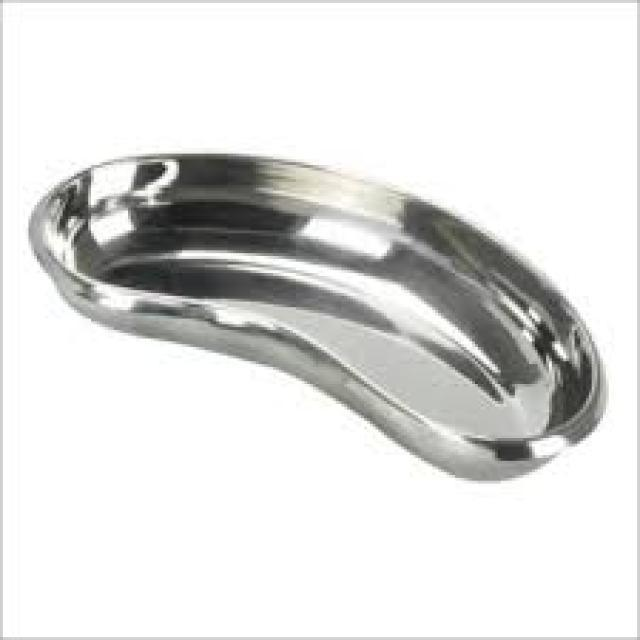Kidney Tray: (24, 136, 614, 492)
